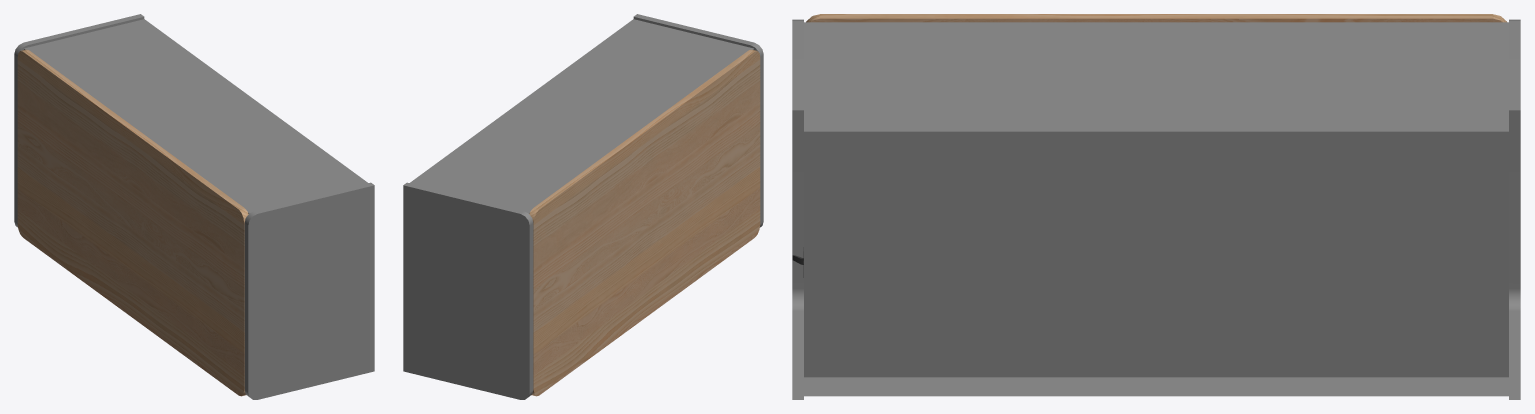
Rendered from Cabinet_Bases.fbx.
3 renders of one model, left to right at view 1: azimuth 30°, elevation 25°; view 2: azimuth 150°, elevation 25°; view 3: azimuth 270°, elevation 25°, orthographic. The views are drawn at different scales.
Parts seen in each view (by area): view 1: Cabinet_Bases, Cabinet_Door; view 2: Cabinet_Bases, Cabinet_Door; view 3: Cabinet_Bases, Cabinet_Door.
Part boxes in pixels (x1,y1,x2,y2): Cabinet_Bases: (14,14,374,399); Cabinet_Door: (17,49,248,396); Cabinet_Bases: (403,14,763,399); Cabinet_Door: (529,49,760,396); Cabinet_Bases: (792,19,1520,399); Cabinet_Door: (792,14,1506,264).
Bounding box in the file's own units: 49.84 × 69.86 × 159.
